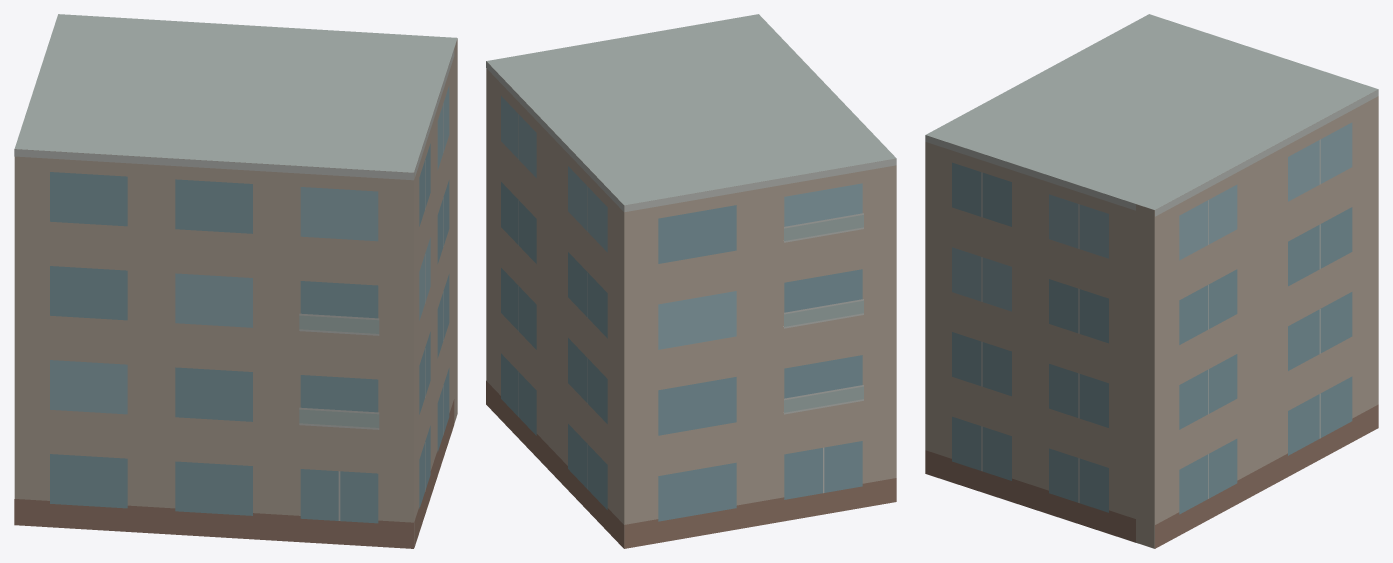
File: survey-upis-32470250.glb
The picture shows the model from 3 angles, left to right: view 1: azimuth 30°, elevation 25°; view 2: azimuth 150°, elevation 25°; view 3: azimuth 270°, elevation 25°; orthographic projection. The views are drawn at different scales.
Visible parts, largest first — view 1: survey-upis-32470250.tmp; view 2: survey-upis-32470250.tmp; view 3: survey-upis-32470250.tmp.
Boxes of the visible parts, x1,y1,x2,y2 form: survey-upis-32470250.tmp: (14, 14, 457, 548); survey-upis-32470250.tmp: (486, 14, 896, 548); survey-upis-32470250.tmp: (925, 14, 1378, 548).
Size of the model in its own units: 15.16 by 12.2 by 14.8.
